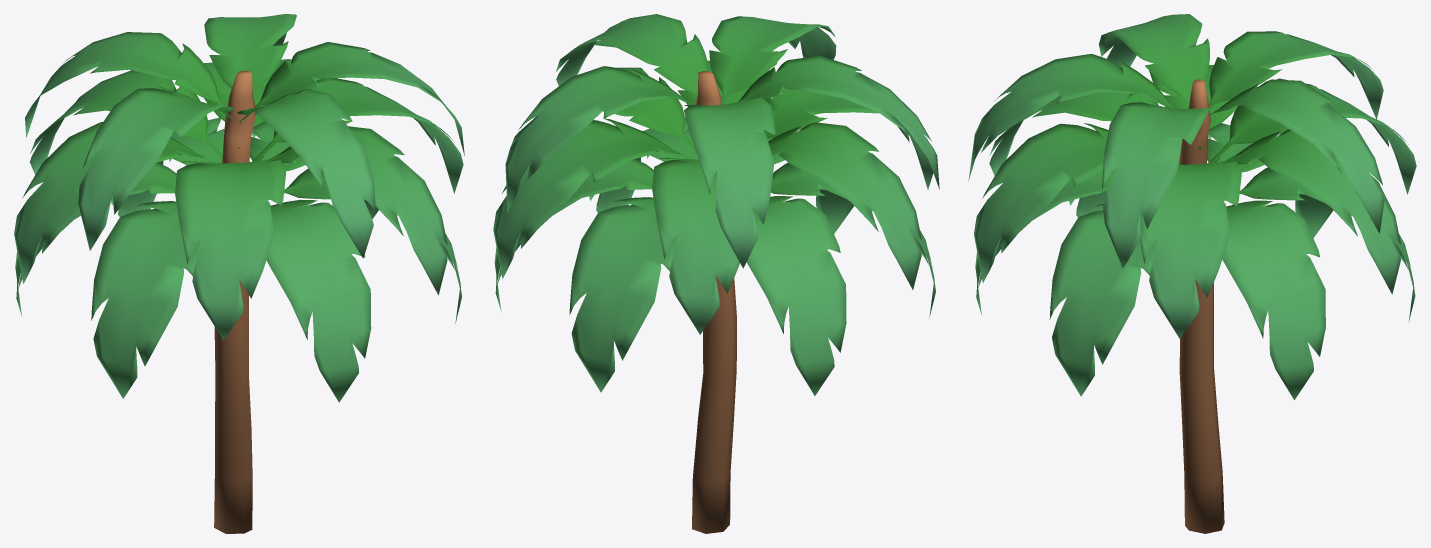
File: palmerilla1.fbx
The picture shows the model from 3 angles, left to right: view 1: azimuth 30°, elevation 25°; view 2: azimuth 150°, elevation 25°; view 3: azimuth 270°, elevation 25°; orthographic projection.
Visible parts, largest first — view 1: palmerilla1; view 2: palmerilla1; view 3: palmerilla1.
Part boxes in pixels (box(x1,y1,x2,y2)): palmerilla1: box(14, 14, 464, 533); palmerilla1: box(493, 14, 939, 533); palmerilla1: box(968, 14, 1416, 533).
Bounding box in the file's own units: 262 × 278 × 248.
Materials: 1 (1 with a texture image).
